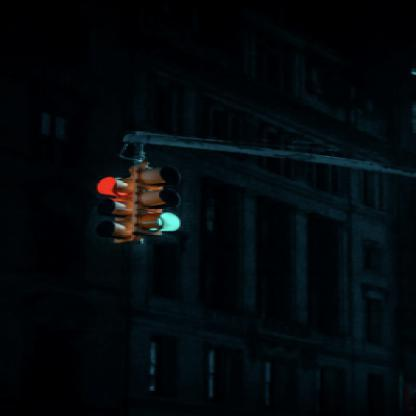trafficlight: (94, 168, 140, 242), (137, 162, 182, 234)
